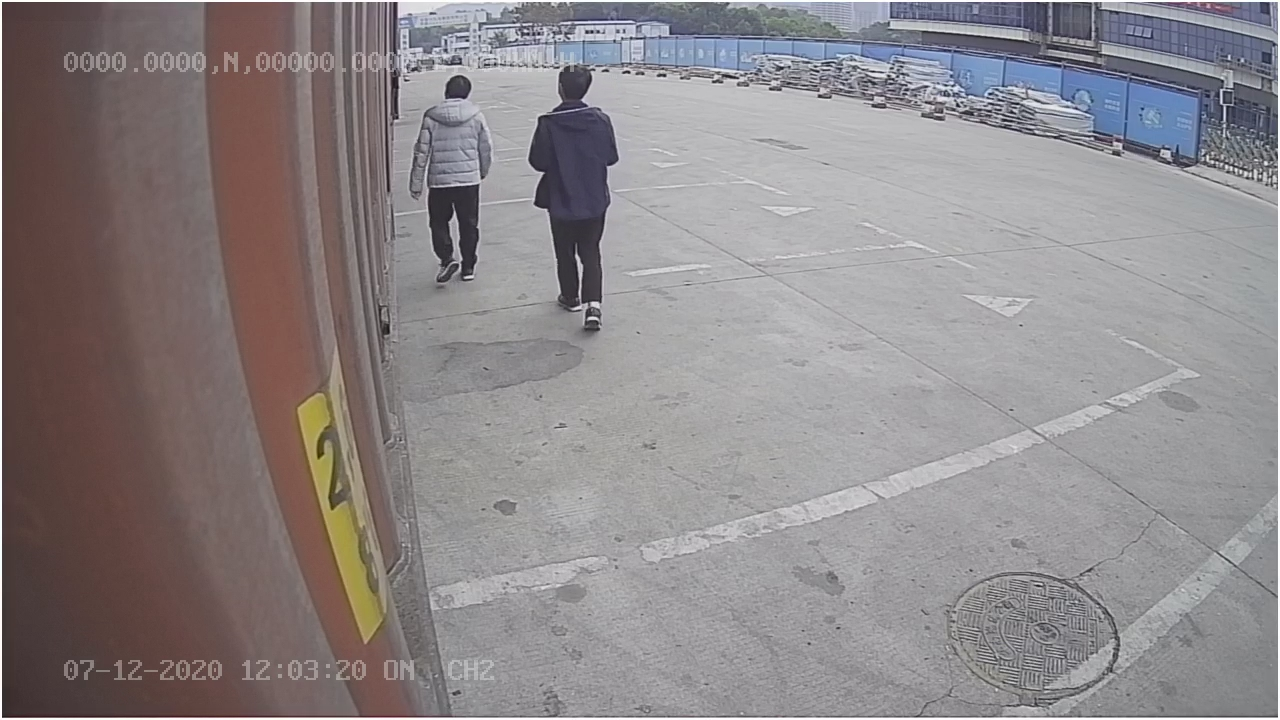person: (525, 65, 619, 333)
